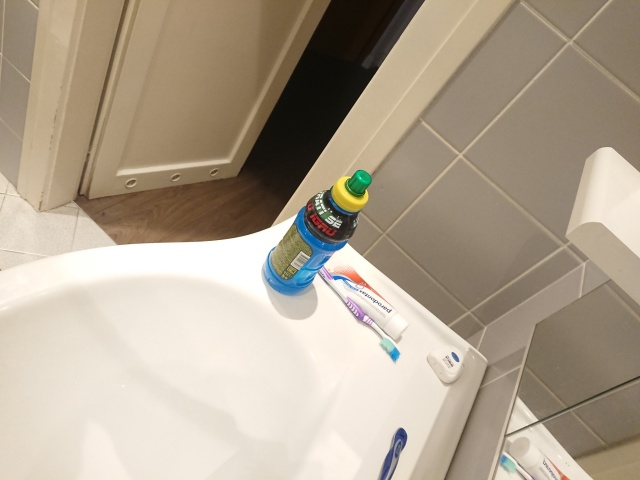Vindi Iso Sport Forest Strawberries 500mL: (261, 168, 373, 297)
